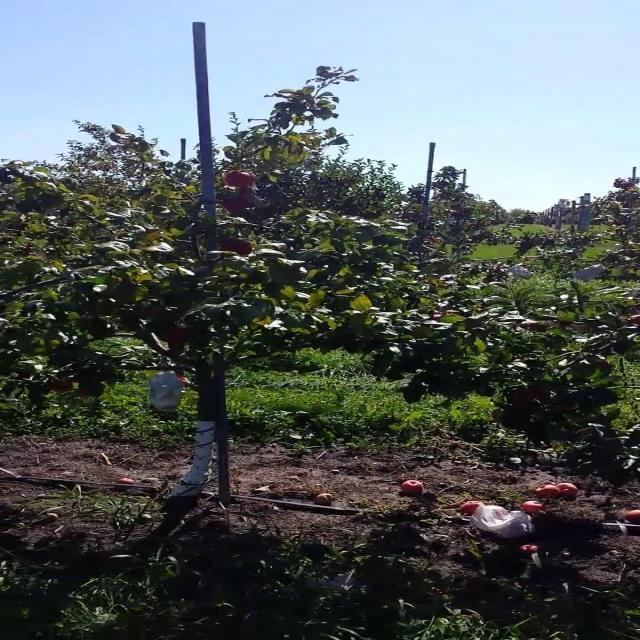apple: (220, 196, 256, 213), (227, 172, 256, 188), (227, 240, 254, 256), (163, 328, 188, 344), (575, 360, 612, 370), (49, 380, 75, 392), (518, 388, 539, 401), (589, 360, 612, 370), (433, 312, 453, 320), (490, 412, 503, 420), (77, 392, 92, 397), (561, 404, 569, 412)
